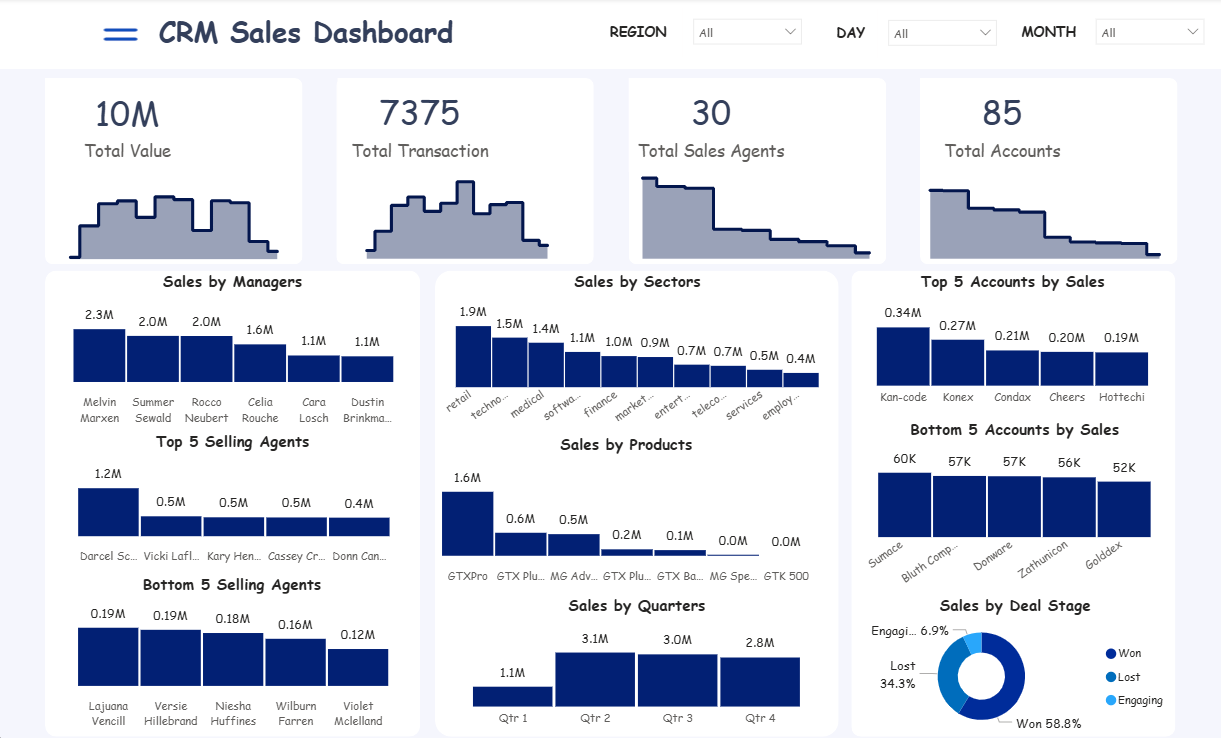

The page's visual inventory and layout, read from the dashboard file:
{"tool":"powerbi","page":{"name":"Page 1","canvas":[1280,720],"ordinal":0},"visuals":[{"type":"shape","box":[67.6,0,1181.1,720.2],"z":0},{"type":"shape","box":[67.6,0,1181.1,68.8],"z":1000},{"type":"shape","box":[111,77.2,248.5,179.8],"z":2000},{"type":"shape","box":[111.1,263.5,362.3,450],"z":3000},{"type":"shape","box":[889.2,263.5,312.9,450.1],"z":4000},{"type":"shape","box":[487.1,263.5,389.7,450.1],"z":5000},{"type":"shape","box":[392.5,77.2,248.5,179.8],"z":6000},{"type":"shape","box":[674,77.2,248.5,179.8],"z":7000},{"type":"shape","box":[955.5,77.2,248.5,179.8],"z":8000},{"type":"textbox","box":[132.6,8.1,460.5,52.3],"z":9000},{"type":"image","box":[151.2,14,66.3,41.9],"z":10000},{"type":"card","fields":{"Values":["sales_pipeline.close_value"]},"box":[110.5,76.7,159.3,90.7],"z":11000},{"type":"areaChart","fields":{"Category":["sales_pipeline.Month"],"Y":["sales_pipeline.close_value"]},"box":[102.3,167.4,302.3,89.5],"z":12000},{"type":"card","fields":{"Values":["sales_pipeline.opportunity_id"]},"box":[393.3,77.2,159.3,90.5],"z":15000},{"type":"areaChart","fields":{"Y":["sales_pipeline.opportunity_id"],"Category":["sales_pipeline.Month"]},"box":[390.9,155.6,267.8,101.3],"z":16000},{"type":"clusteredColumnChart","title":"Bottom 5 Selling Agents","fields":{"Category":["sales_teams.sales_agent"],"Y":["sales_pipeline.close_value"]},"box":[111.1,554.4,360.9,159.2],"z":17000},{"type":"clusteredColumnChart","title":"Sales by Managers","fields":{"Y":["sales_pipeline.close_value"],"Category":["sales_teams.manager"]},"box":[111.1,263.5,362.3,157.8],"z":18000},{"type":"donutChart","title":"Sales by Deal Stage","fields":{"Category":["sales_pipeline.deal_stage"],"Y":["sales_pipeline.engage_date"]},"box":[890.6,575,314.2,138.6],"z":19000},{"type":"clusteredColumnChart","title":"Sales by Quarters","fields":{"Category":["sales_pipeline.close_date.Variation.Date Hierarchy.Quarter"],"Y":["sales_pipeline.close_value"]},"box":[487.1,575,389.7,138.6],"z":20000},{"type":"clusteredColumnChart","title":"Sales by Sectors","fields":{"Y":["sales_pipeline.close_value"],"Category":["accounts.sector"]},"box":[488.6,263,388.5,156.8],"z":21000},{"type":"clusteredColumnChart","title":"Top 5 Selling Agents","fields":{"Category":["sales_teams.sales_agent"],"Y":["sales_pipeline.close_value"]},"box":[111.1,417.2,362.3,137.2],"z":22000},{"type":"clusteredColumnChart","title":"Sales by Products","fields":{"Y":["sales_pipeline.close_value"],"Category":["sales_pipeline.product"]},"box":[466.6,419.9,410.3,153.7],"z":23000},{"type":"clusteredColumnChart","title":"Top 5 Accounts by Sales","fields":{"Y":["sales_pipeline.close_value"],"Category":["sales_pipeline.account"]},"box":[887.8,263.5,314.2,141.3],"z":25000},{"type":"slicer","fields":{"Values":["sales_pipeline.Month"]},"box":[1114.8,9.7,125.5,47.1],"z":26000},{"type":"textbox","box":[1040,18.1,79.6,31.4],"z":27000},{"type":"textbox","box":[862.6,19.3,51.9,31.4],"z":28000},{"type":"slicer","fields":{"Values":["sales_pipeline.Day"]},"box":[914.5,10.9,125.5,47.1],"z":29000},{"type":"textbox","box":[640.6,18.1,85.7,31.4],"z":30000},{"type":"slicer","fields":{"Values":["sales_teams.regional_office"]},"box":[726.3,9.7,125.5,47.1],"z":30001},{"type":"clusteredColumnChart","title":"Bottom  5 Accounts by Sales","fields":{"Y":["sales_pipeline.close_value"],"Category":["sales_pipeline.account"]},"box":[889.2,404.8,315.6,170.2],"z":30002},{"type":"card","fields":{"Values":["sales_pipeline.sales_agent"]},"box":[674.4,77.2,159.3,90.5],"z":30003},{"type":"areaChart","fields":{"Y":["sales_pipeline.close_value"],"Category":["sales_teams.sales_agent"]},"box":[672,155.6,250.9,101.3],"z":30004},{"type":"card","fields":{"Values":["sales_pipeline.account"]},"box":[955.5,77.2,159.3,90.5],"z":30005},{"type":"areaChart","fields":{"Y":["sales_pipeline.close_value"],"Category":["sales_pipeline.account"]},"box":[950.7,155.6,250.9,101.3],"z":30006}]}

Visuals, with their boxes on the page's 1280x720 design canvas (x1, y1, x2, y2). These are canvas units, not pixel positions in the 1221x738 screenshot, which may show the page scaled, cropped or inside an application window:
shape: {"left": 68, "top": 0, "right": 1249, "bottom": 720}
shape: {"left": 68, "top": 0, "right": 1249, "bottom": 69}
shape: {"left": 111, "top": 77, "right": 360, "bottom": 257}
shape: {"left": 111, "top": 264, "right": 473, "bottom": 714}
shape: {"left": 889, "top": 264, "right": 1202, "bottom": 714}
shape: {"left": 487, "top": 264, "right": 877, "bottom": 714}
shape: {"left": 392, "top": 77, "right": 641, "bottom": 257}
shape: {"left": 674, "top": 77, "right": 922, "bottom": 257}
shape: {"left": 956, "top": 77, "right": 1204, "bottom": 257}
textbox: {"left": 133, "top": 8, "right": 593, "bottom": 60}
image: {"left": 151, "top": 14, "right": 218, "bottom": 56}
card - sales_pipeline.close_value: {"left": 110, "top": 77, "right": 270, "bottom": 167}
areaChart - sales_pipeline.Month x sales_pipeline.close_value: {"left": 102, "top": 167, "right": 405, "bottom": 257}
card - sales_pipeline.opportunity_id: {"left": 393, "top": 77, "right": 553, "bottom": 168}
areaChart - sales_pipeline.opportunity_id x sales_pipeline.Month: {"left": 391, "top": 156, "right": 659, "bottom": 257}
"Bottom 5 Selling Agents" clusteredColumnChart: {"left": 111, "top": 554, "right": 472, "bottom": 714}
"Sales by Managers" clusteredColumnChart: {"left": 111, "top": 264, "right": 473, "bottom": 421}
"Sales by Deal Stage" donutChart: {"left": 891, "top": 575, "right": 1205, "bottom": 714}
"Sales by Quarters" clusteredColumnChart: {"left": 487, "top": 575, "right": 877, "bottom": 714}
"Sales by Sectors" clusteredColumnChart: {"left": 489, "top": 263, "right": 877, "bottom": 420}
"Top 5 Selling Agents" clusteredColumnChart: {"left": 111, "top": 417, "right": 473, "bottom": 554}
"Sales by Products" clusteredColumnChart: {"left": 467, "top": 420, "right": 877, "bottom": 574}
"Top 5 Accounts by Sales" clusteredColumnChart: {"left": 888, "top": 264, "right": 1202, "bottom": 405}
slicer - sales_pipeline.Month: {"left": 1115, "top": 10, "right": 1240, "bottom": 57}
textbox: {"left": 1040, "top": 18, "right": 1120, "bottom": 50}
textbox: {"left": 863, "top": 19, "right": 914, "bottom": 51}
slicer - sales_pipeline.Day: {"left": 914, "top": 11, "right": 1040, "bottom": 58}
textbox: {"left": 641, "top": 18, "right": 726, "bottom": 50}
slicer - sales_teams.regional_office: {"left": 726, "top": 10, "right": 852, "bottom": 57}
"Bottom  5 Accounts by Sales" clusteredColumnChart: {"left": 889, "top": 405, "right": 1205, "bottom": 575}
card - sales_pipeline.sales_agent: {"left": 674, "top": 77, "right": 834, "bottom": 168}
areaChart - sales_pipeline.close_value x sales_teams.sales_agent: {"left": 672, "top": 156, "right": 923, "bottom": 257}
card - sales_pipeline.account: {"left": 956, "top": 77, "right": 1115, "bottom": 168}
areaChart - sales_pipeline.close_value x sales_pipeline.account: {"left": 951, "top": 156, "right": 1202, "bottom": 257}
